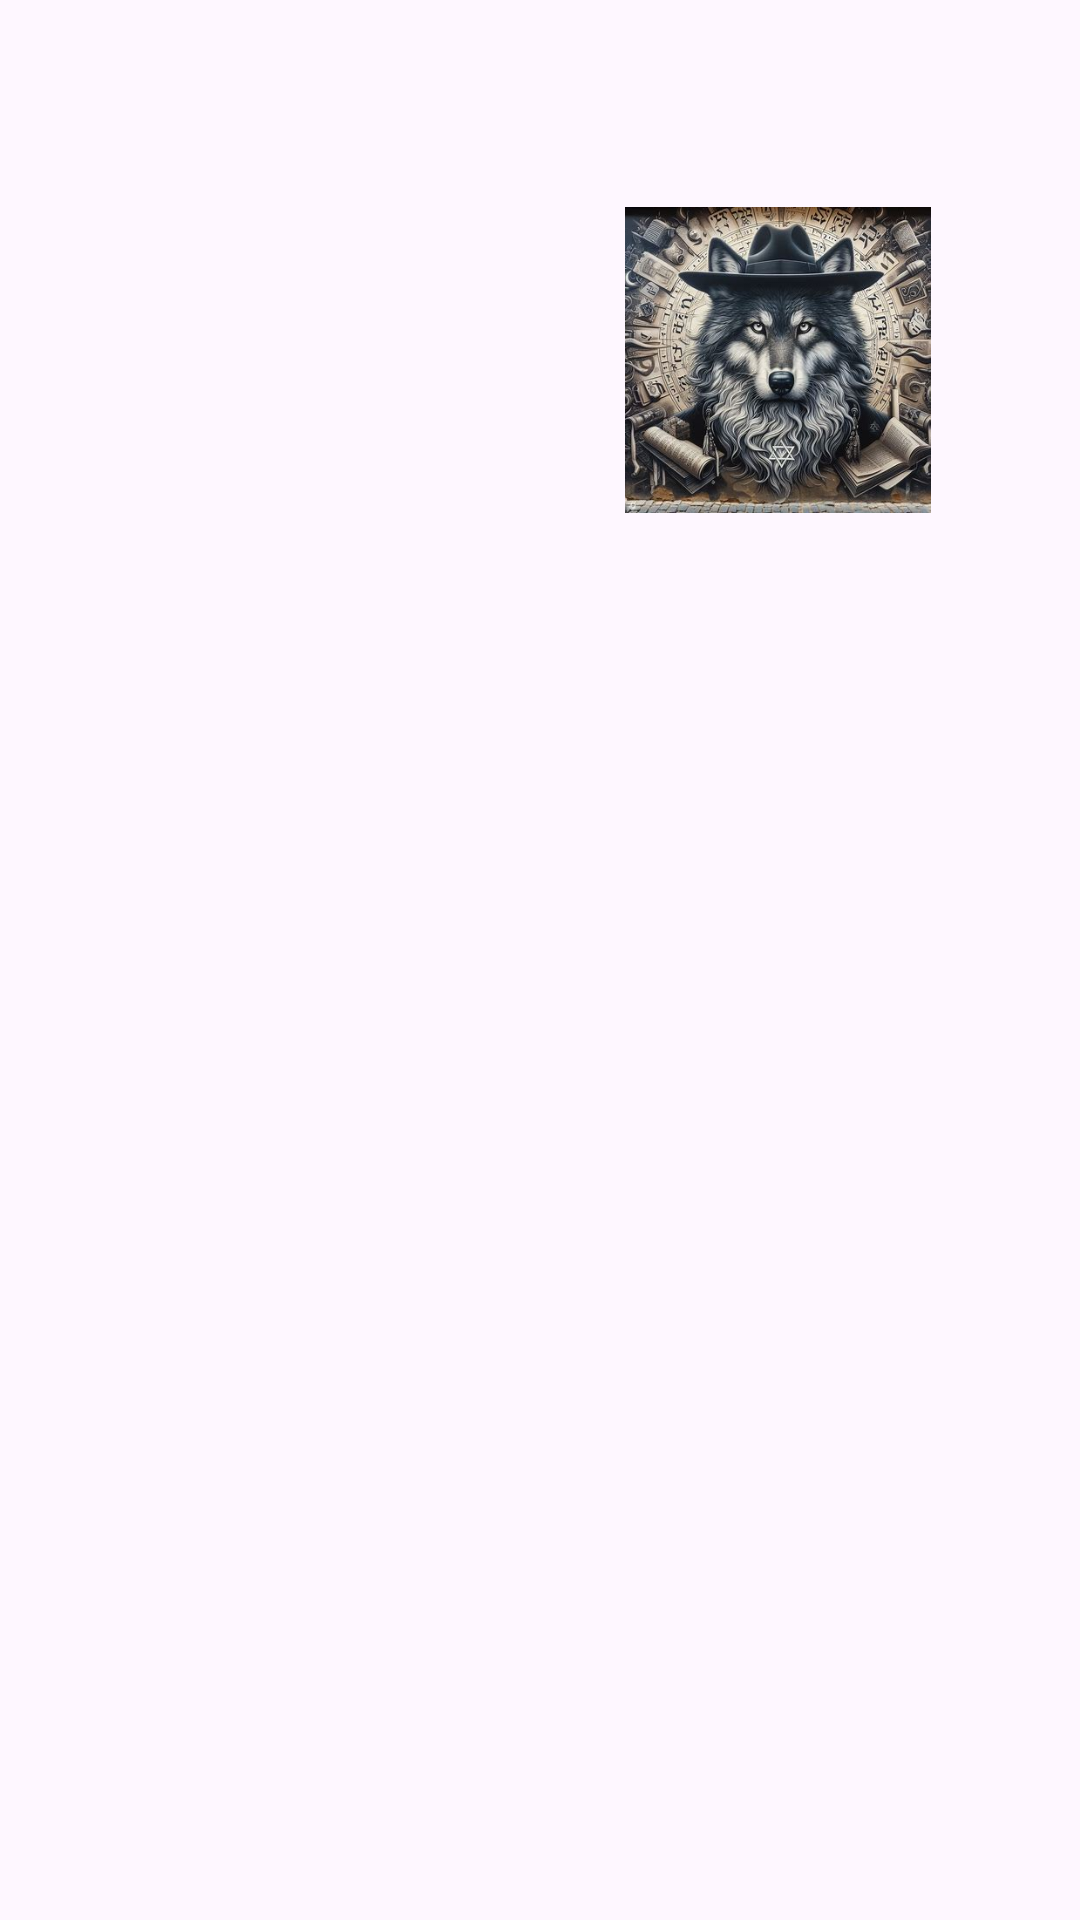

Icons on this 1080 × 1920 Android screen, each with the point to tap as (x,y):
wolf: (778,360)
